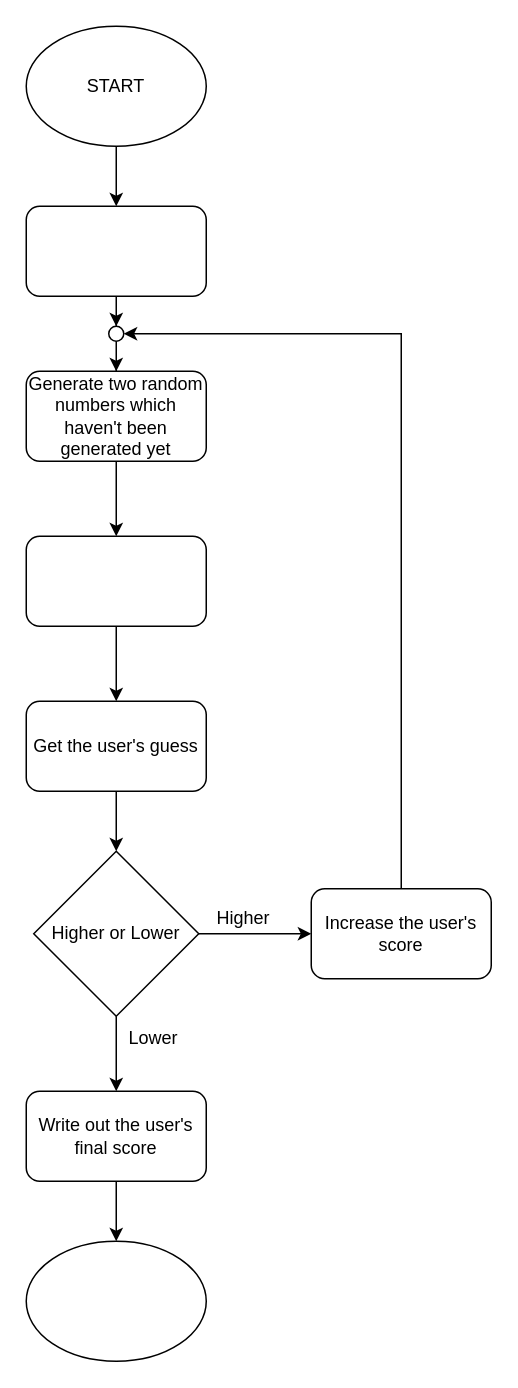
This 518x1388 diagram has some shape labels left out. Here are the shapes that lost their labels. From the top down, the centre of each, then its label:
[115,250]: Write out logo
[115,580]: Write out the two selected entity
[115,1300]: END
